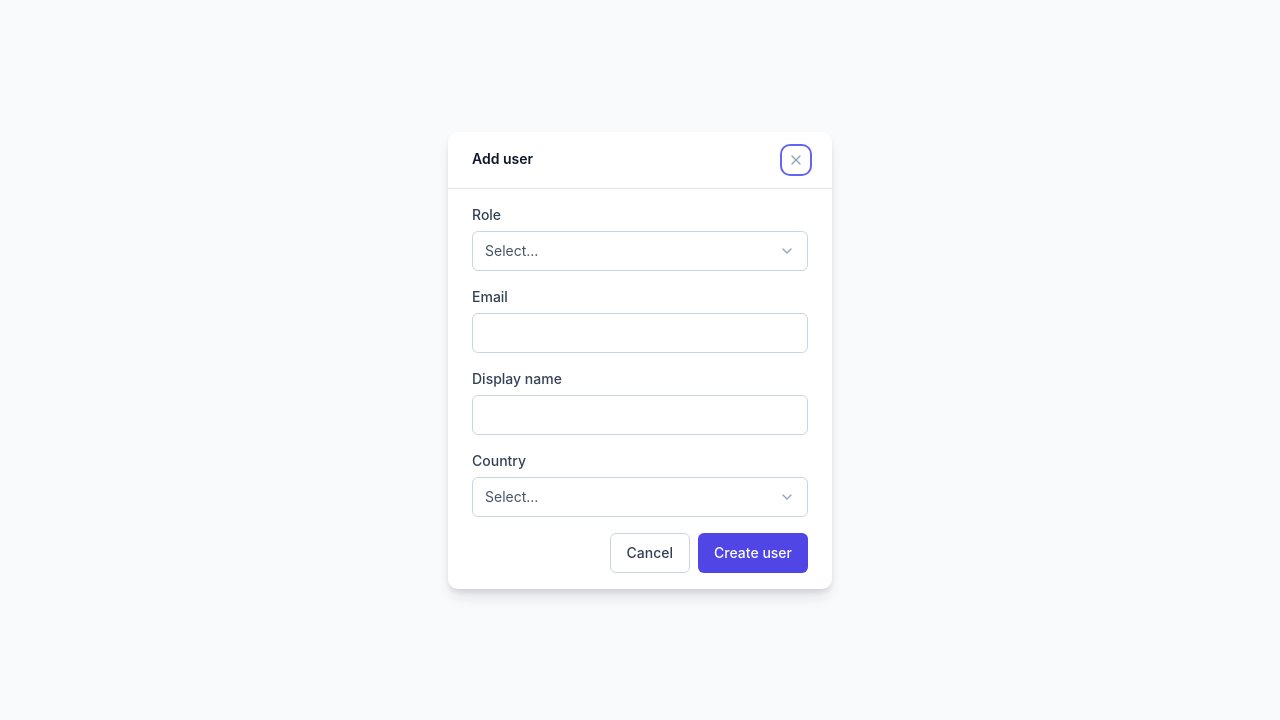
AddUserModal — TC-26/TC-27: the role dropdown offers only the actor's allowed roles › super_admin sees only country_admin
Click the dropdown named "role" at [512, 250], box [472, 230, 808, 270]
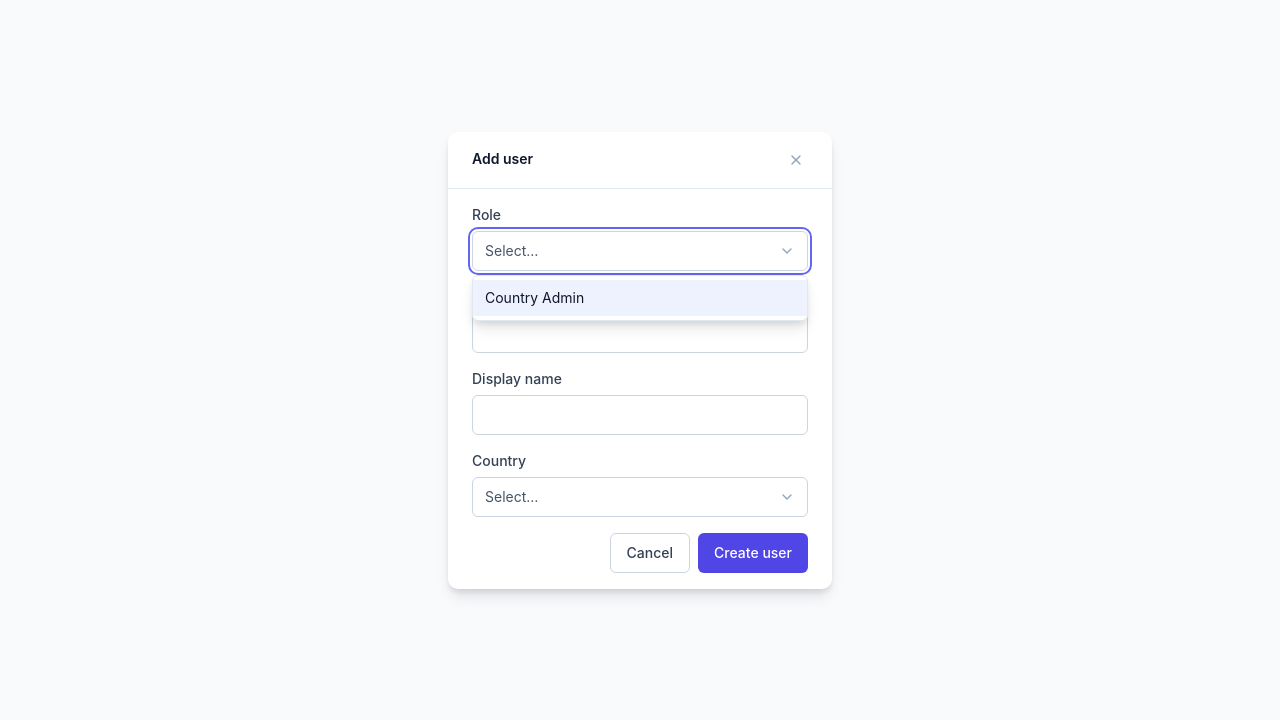
Expected: the option "Country Admin" is shown, [473, 280, 807, 316]
